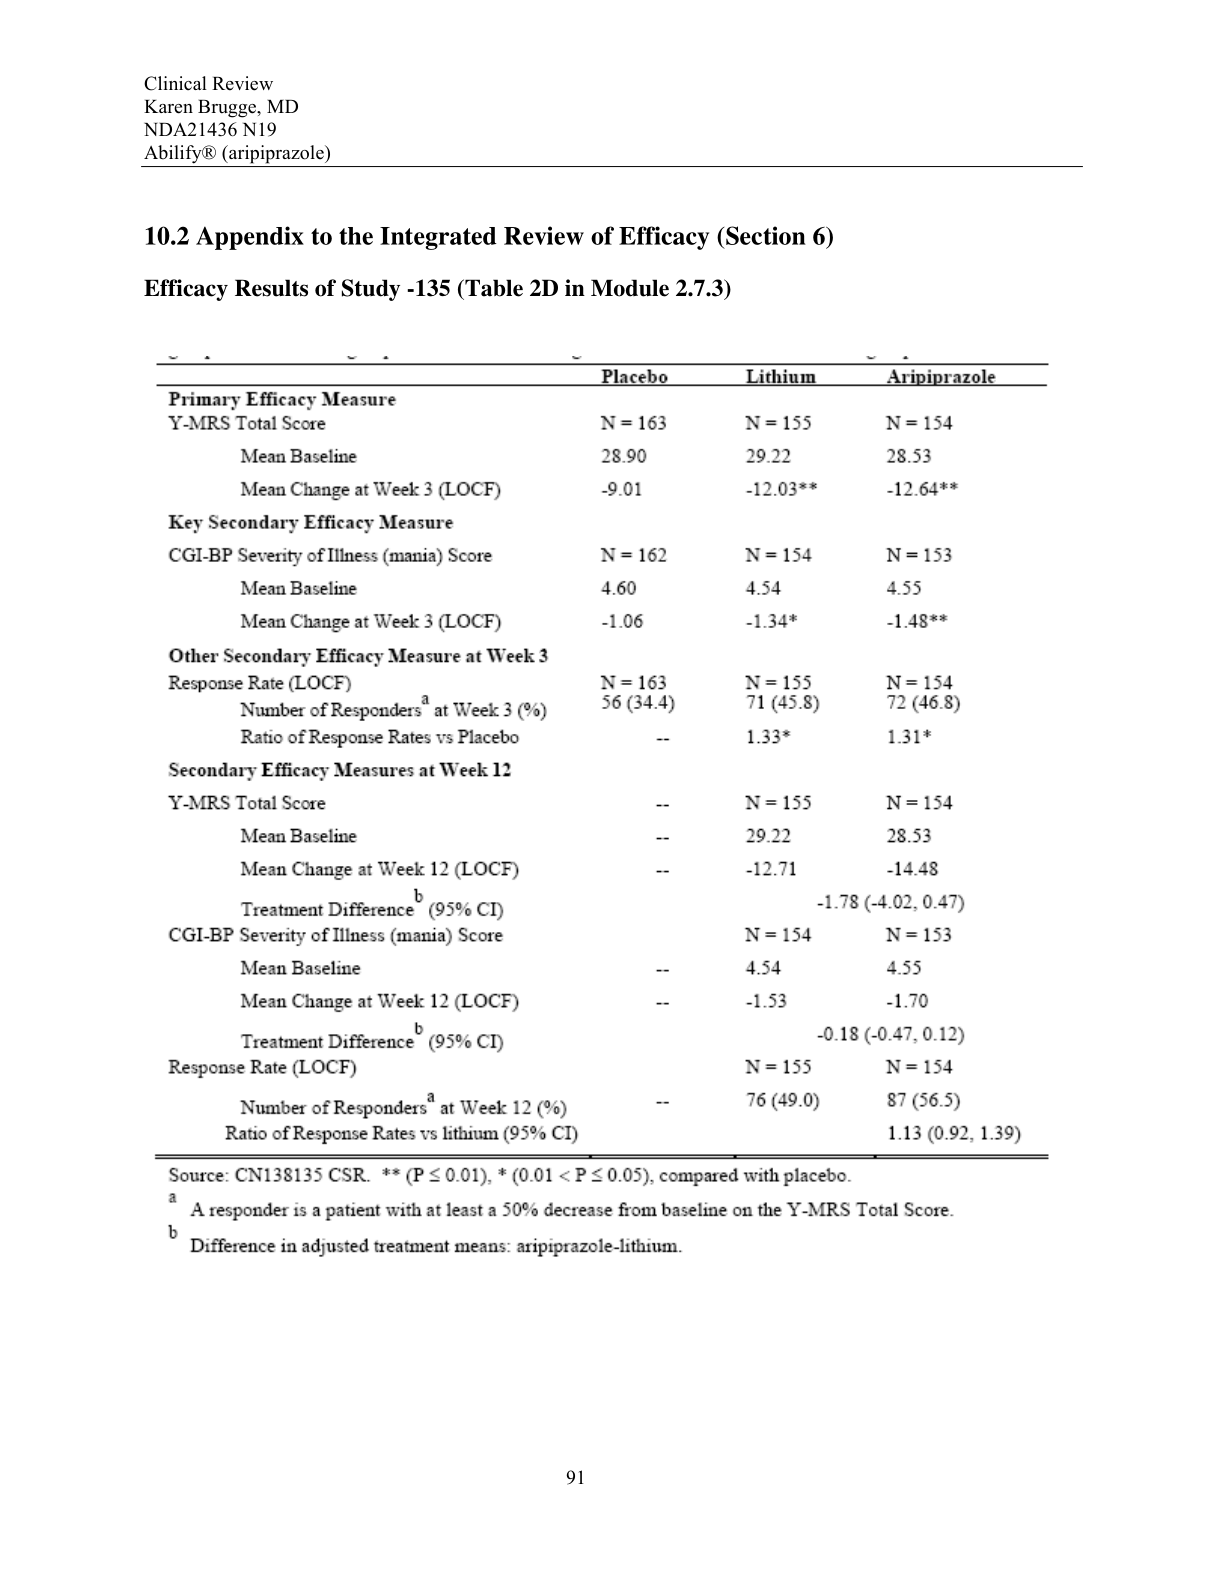partial_lined: (153, 363, 1050, 1160)
